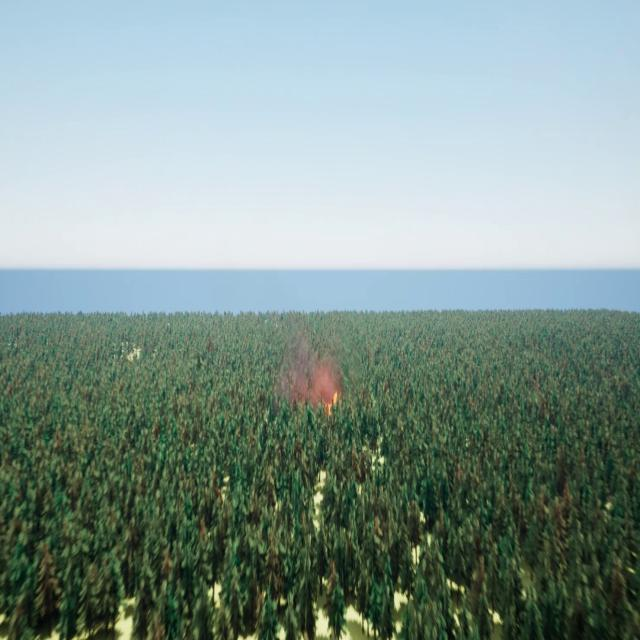smoke: (278, 336, 343, 408)
